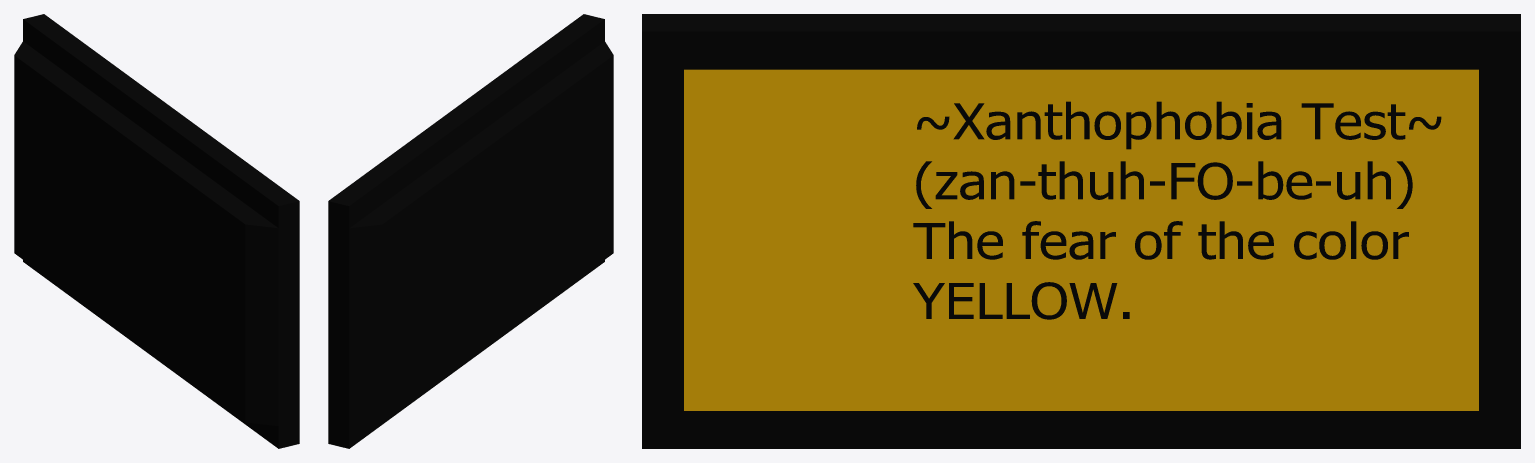
The picture shows the model from 3 angles, left to right: view 1: azimuth 30°, elevation 25°; view 2: azimuth 150°, elevation 25°; view 3: azimuth 270°, elevation 25°; orthographic projection. The views are drawn at different scales.
Visible parts, largest first — view 1: mesh63-geometry-0; view 2: mesh63-geometry-0; view 3: mesh63-geometry-3, mesh63-geometry-0.
Boxes of the visible parts, x1,y1,x2,y2 form: mesh63-geometry-0: (14, 14, 299, 448); mesh63-geometry-0: (328, 14, 613, 448); mesh63-geometry-3: (684, 69, 1478, 410); mesh63-geometry-0: (642, 14, 1520, 448).
Bounding box in the file's own units: 0.0843 × 0.4624 × 0.8827.
